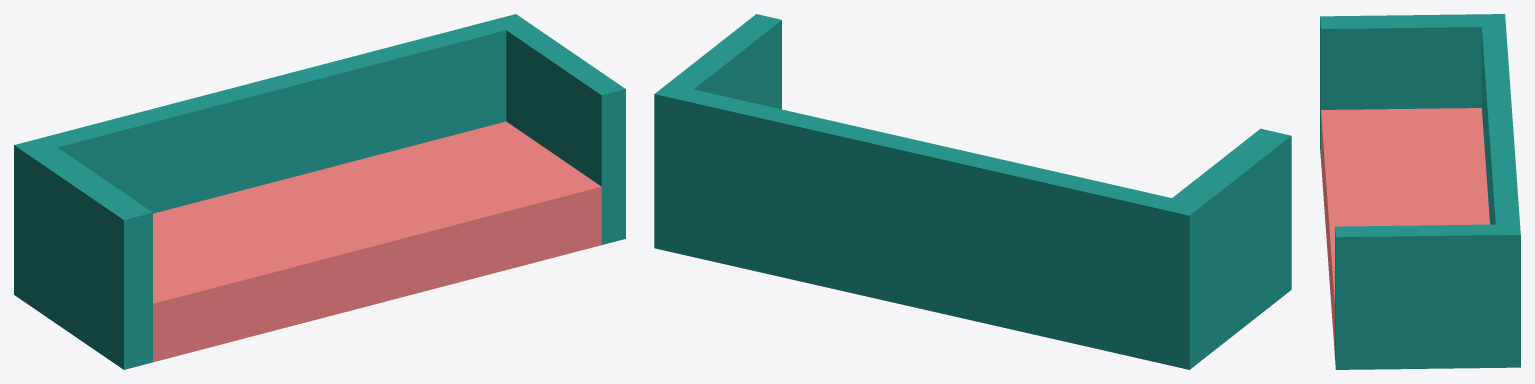
Rendered from koltuk.fbx.
3 renders of one model, left to right at view 1: azimuth 30°, elevation 25°; view 2: azimuth 150°, elevation 25°; view 3: azimuth 270°, elevation 25°, orthographic. The views are drawn at different scales.
Visible parts, largest first — view 1: Cube.007; view 2: Cube.007; view 3: Cube.007.
Part boxes in pixels (x1=…): Cube.007: x1=14, y1=14, x2=625, y2=369; Cube.007: x1=654, y1=14, x2=1291, y2=369; Cube.007: x1=1320, y1=14, x2=1520, y2=369.
Size of the model in its own units: 722 by 200 by 274.
